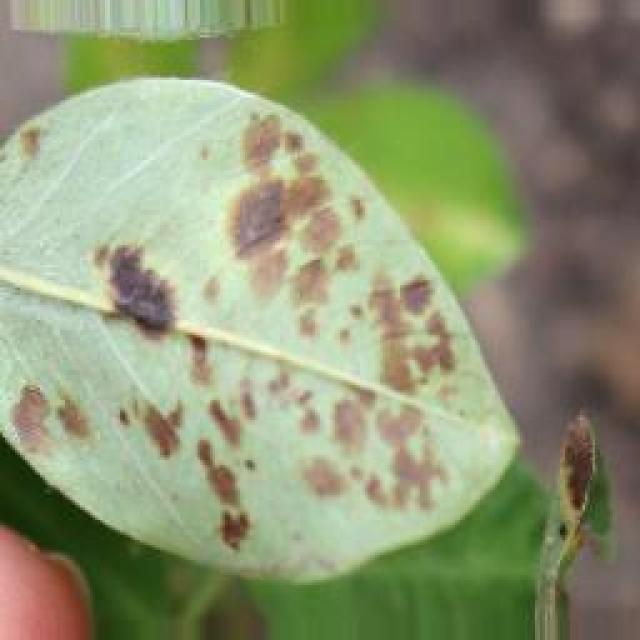Whitefly: (0, 41, 485, 563)
